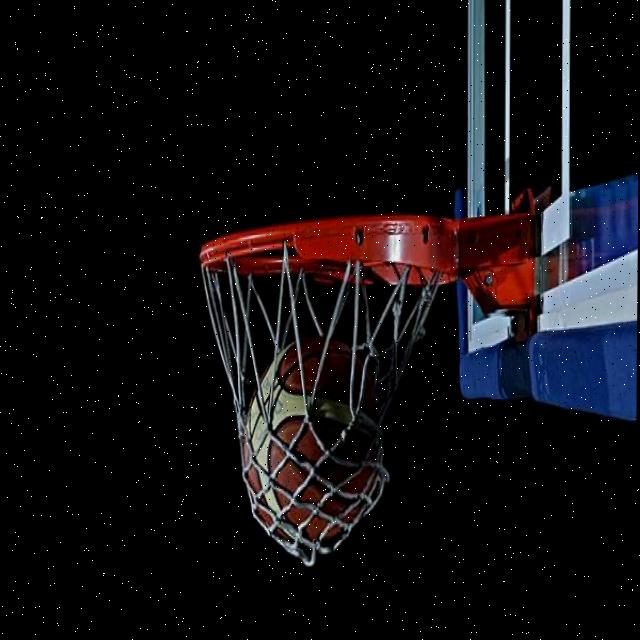basketball: (237, 327, 393, 565)
hoop: (190, 199, 466, 589), (191, 200, 465, 588)
